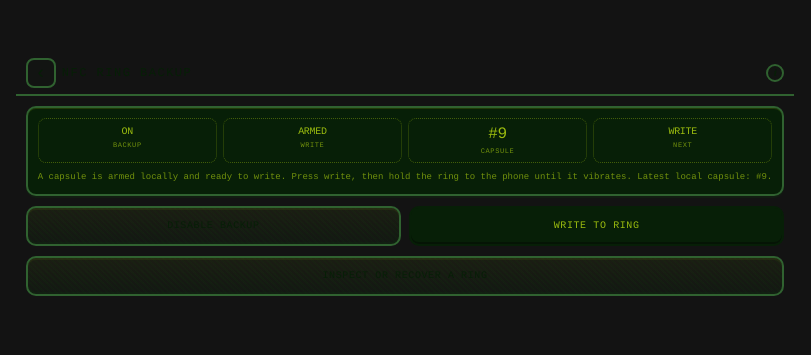
Scenario: NfcRecoveryScreen › shows the armed status Rust reported and writes on request
Expected: the text "ARMED" is shown, [298,126,327,137]
Expected: the text "#9" is shown, [488,125,507,143]
Click the button "Write to ring". click: (597, 226)
box: [409,206,784,246]
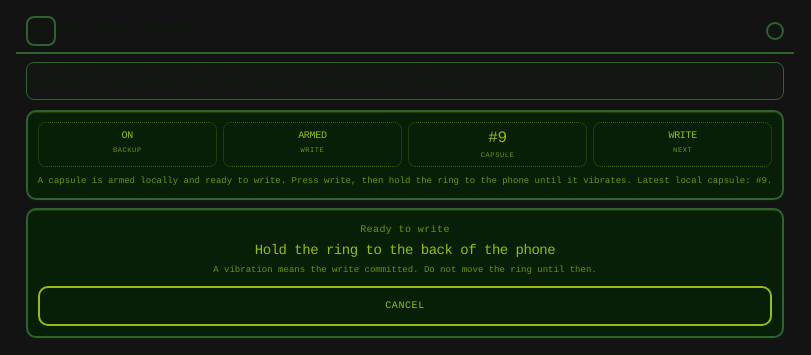
Expected: the text "Hold the ring to the back of the phone" is shown, [255,242,555,258]
